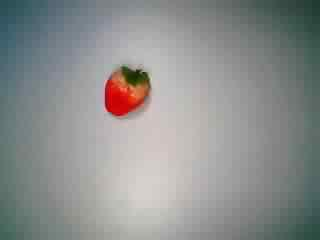strawberry: (100, 61, 155, 124)
